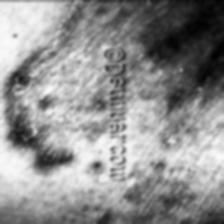Toxin: (13, 64, 91, 170)
